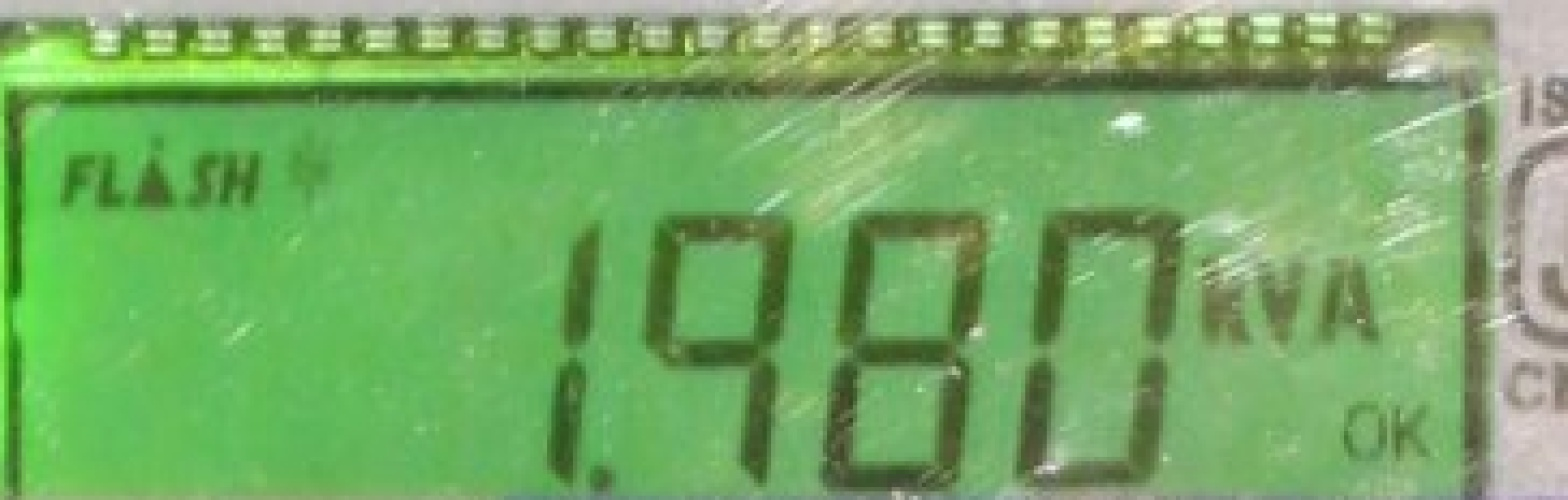eight: (815, 201, 998, 490)
nine: (634, 205, 798, 499)
one: (549, 228, 606, 486)
zero: (1015, 195, 1190, 478)
